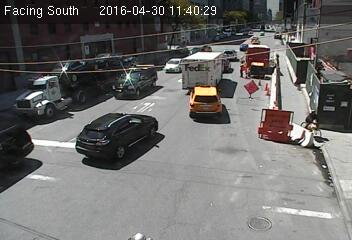neg: (298, 103, 326, 140)
pos: (233, 58, 248, 78)
